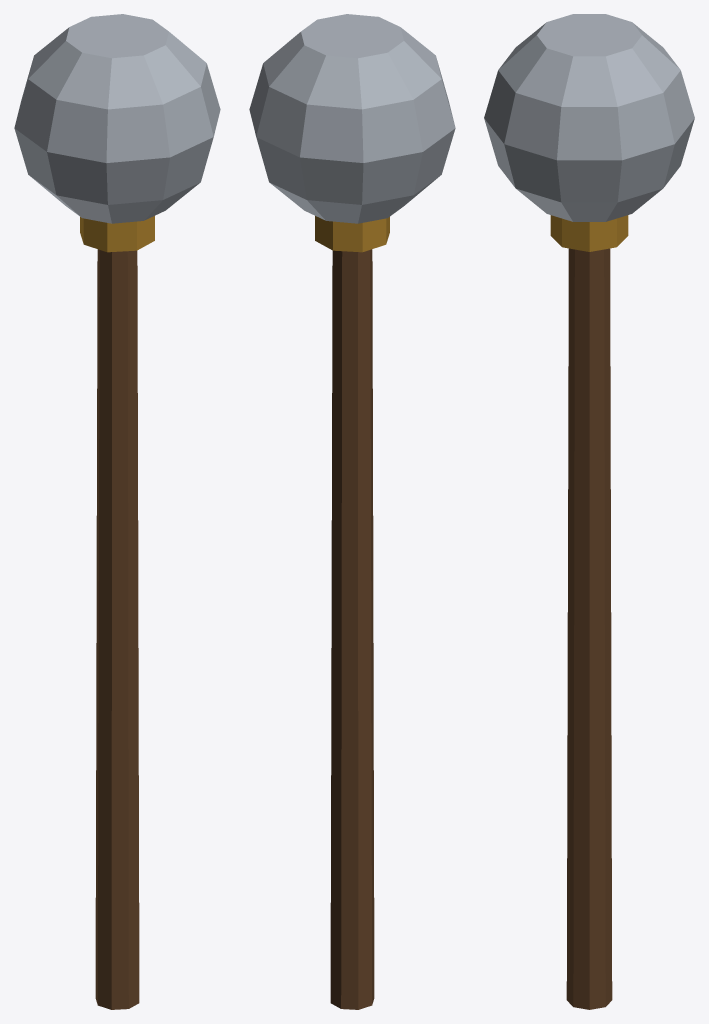
File: g-mace-ball.glb
3 renders of one model, left to right at view 1: azimuth 30°, elevation 25°; view 2: azimuth 150°, elevation 25°; view 3: azimuth 270°, elevation 25°, orthographic.
Visible parts, largest first — view 1: g-mace-ball; view 2: g-mace-ball; view 3: g-mace-ball.
Boxes of the visible parts, left/top/right/bottom form: g-mace-ball: left=14, top=14, right=220, bottom=1009; g-mace-ball: left=249, top=14, right=455, bottom=1009; g-mace-ball: left=484, top=14, right=694, bottom=1009.
Size of the model in its own units: 0.1236 by 0.6563 by 0.13.
